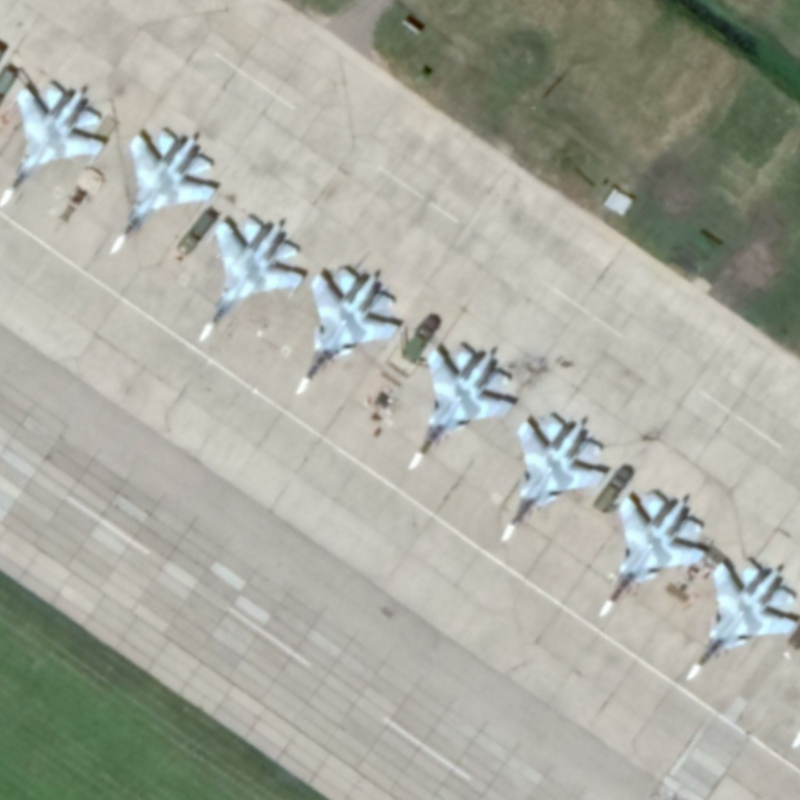A1: (195, 215, 306, 344), (107, 128, 218, 256), (1, 80, 106, 211)
A19: (499, 410, 615, 546), (597, 488, 709, 621), (683, 557, 800, 683), (405, 343, 517, 473), (292, 265, 401, 397)
